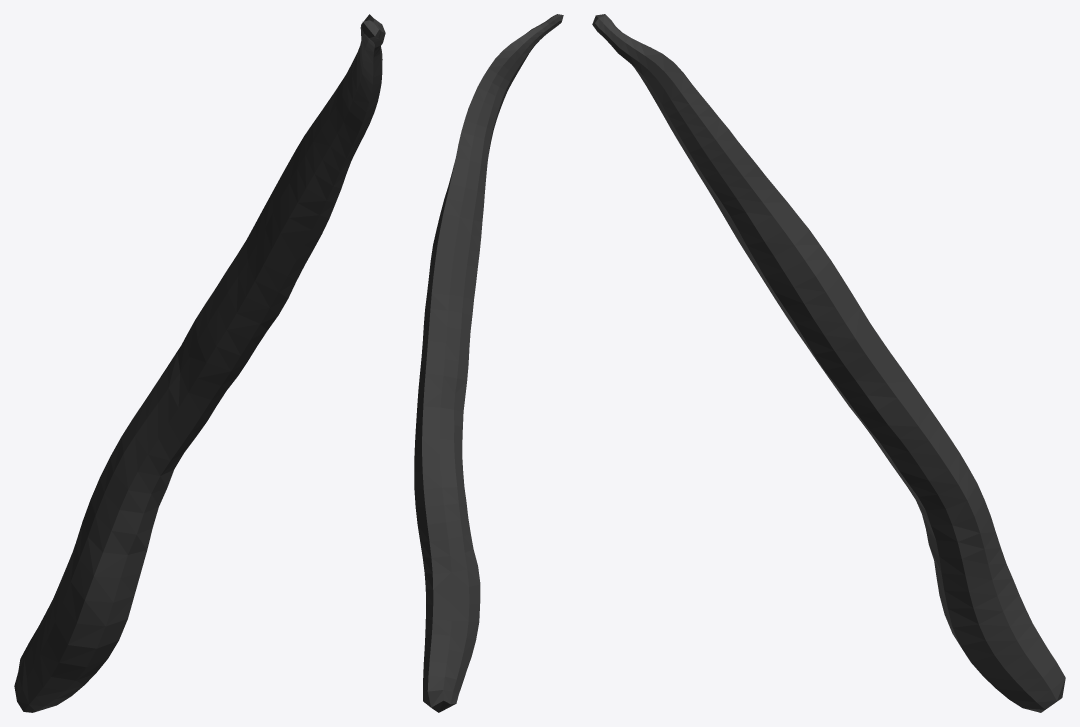
The model's file is Sternocephalic_mast.glb.
The picture shows the model from 3 angles, left to right: view 1: azimuth 30°, elevation 25°; view 2: azimuth 150°, elevation 25°; view 3: azimuth 270°, elevation 25°; orthographic projection. The views are drawn at different scales.
Parts seen in each view (by area): view 1: Sternocephalic_mast; view 2: Sternocephalic_mast; view 3: Sternocephalic_mast.
Part boxes in pixels (bbox=[...]): Sternocephalic_mast: bbox=[14, 14, 385, 712]; Sternocephalic_mast: bbox=[414, 14, 563, 712]; Sternocephalic_mast: bbox=[592, 14, 1065, 712].
Bounding box in the file's own units: 0.2558 × 1.28 × 0.754.
Materials: 1 (1 with a texture image).
